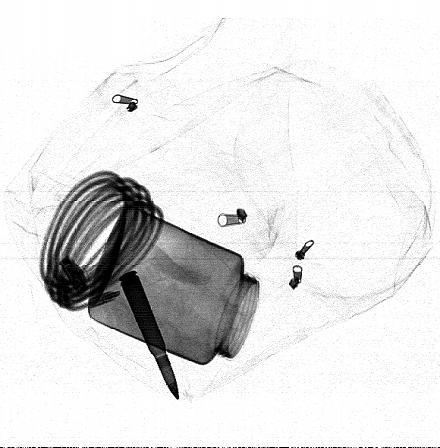Bullet: (118, 270, 179, 402)
